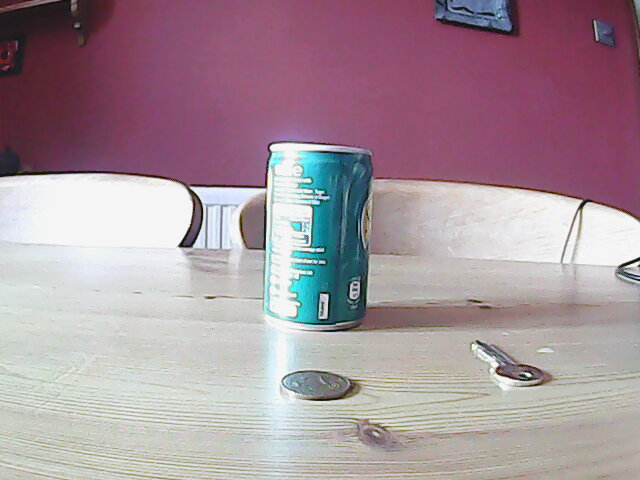Can: (259, 139, 374, 339)
Coin: (273, 369, 353, 403)
Key: (465, 337, 545, 389)
